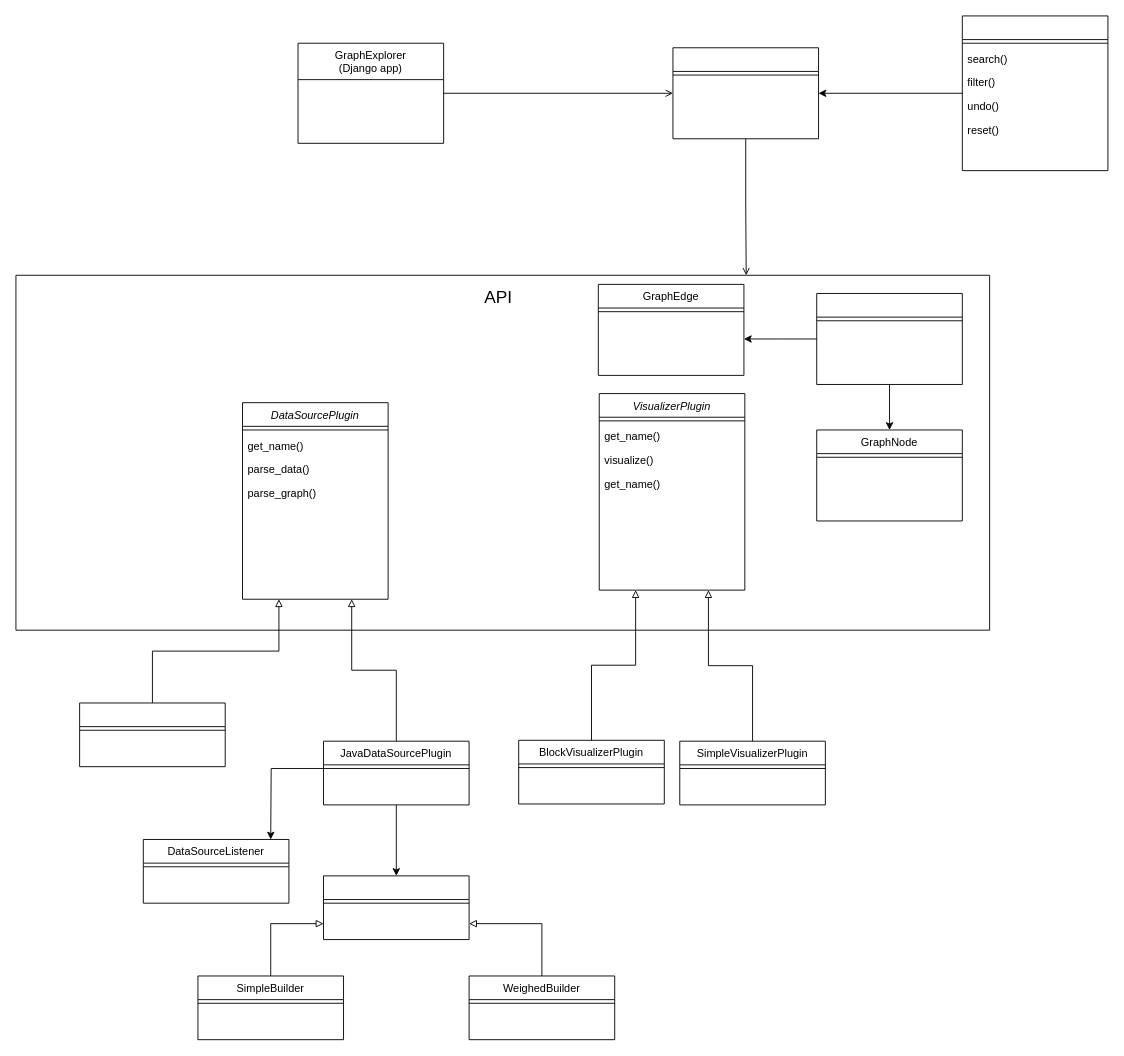
This 1124x1056 diagram has some shape labels left out. The shapes that lost their labels are listed below. From the top down, each one's box as (x1, y1, x2, y2) in pixels, then its label:
(672, 47, 819, 139): Core
(961, 15, 1108, 171): SearchProvider
(816, 293, 962, 384): Graph
(79, 702, 225, 767): DataSourceWikiPlugin
(323, 875, 469, 940): GraphBuilder
